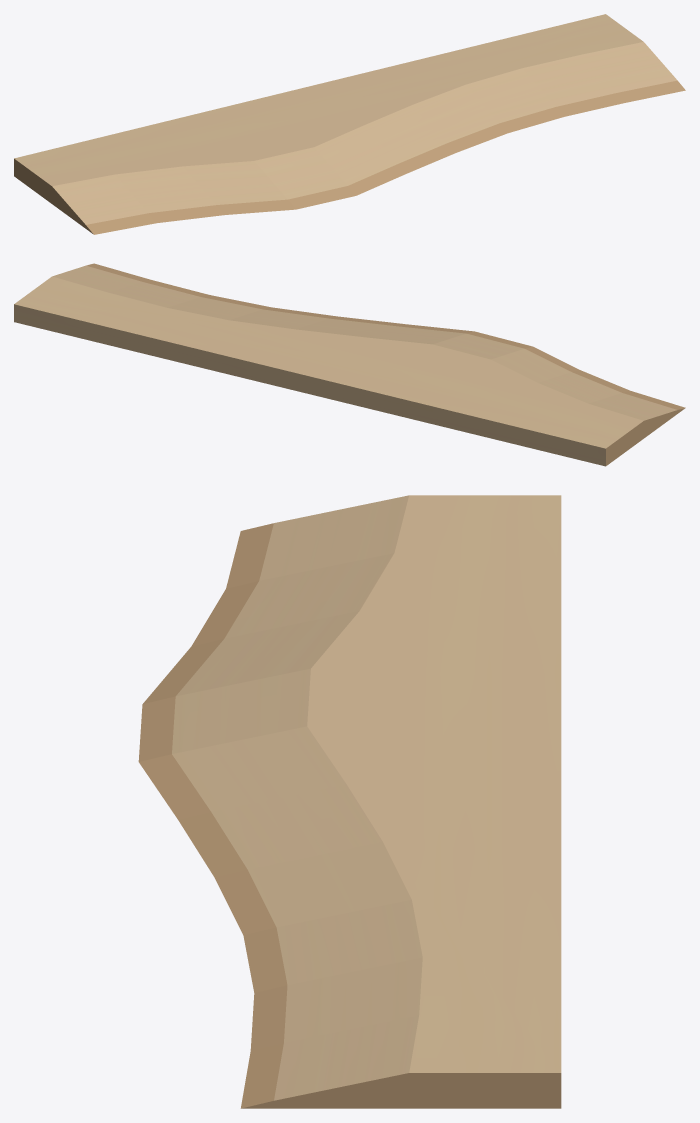
The model's file is shatan01.FBX.
3 views of the same model, one above another, from view 1: azimuth 30°, elevation 25°; view 2: azimuth 150°, elevation 25°; view 3: azimuth 270°, elevation 25° (orthographic). The views are drawn at different scales.
Parts seen in each view (by area): view 1: shatan01; view 2: shatan01; view 3: shatan01.
Part boxes in pixels (x1,y1,x2,y2): shatan01: (14, 14, 685, 234); shatan01: (14, 263, 685, 466); shatan01: (138, 495, 561, 1108).
Size of the model in its own units: 16400 by 473 by 5071.
